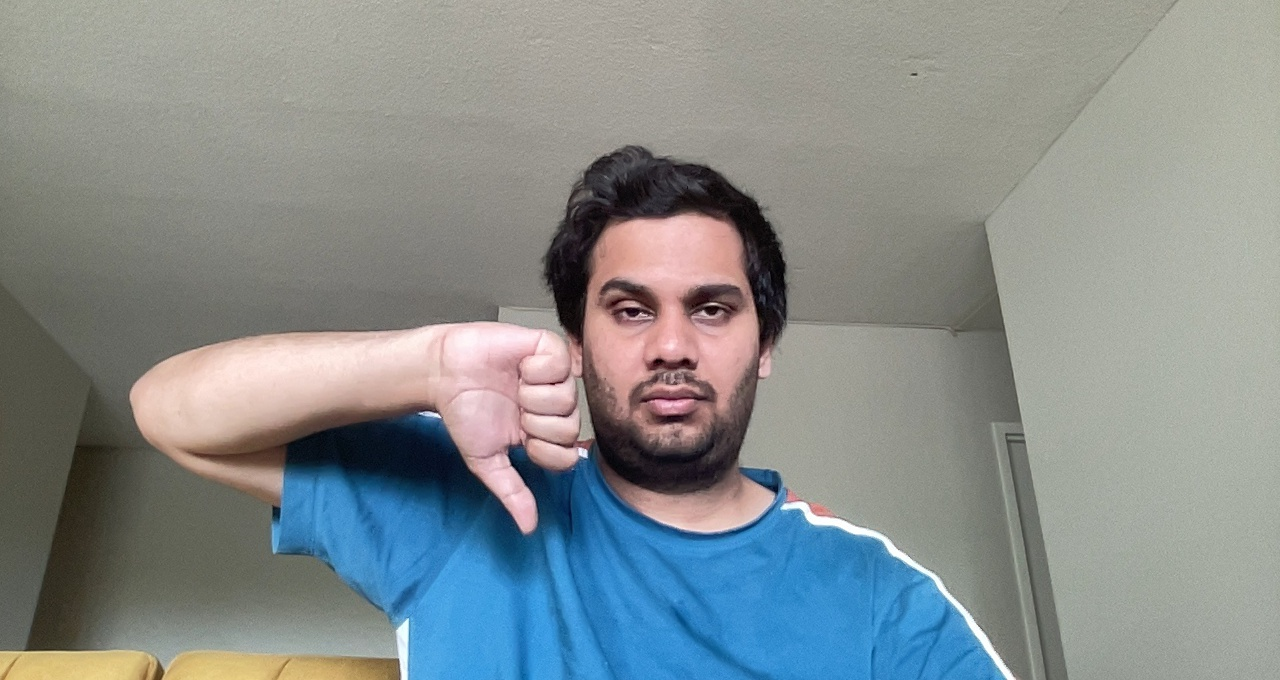thumbsdown: (431, 314, 604, 559)
